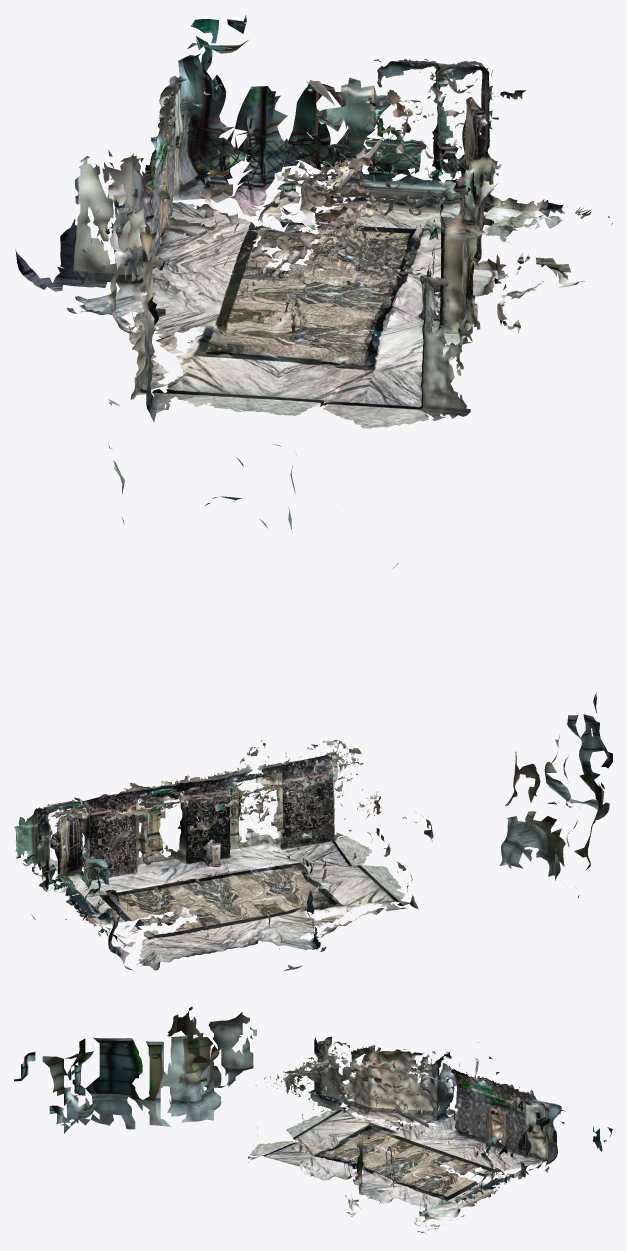
The model's file is 147293-TLT3Depanlift-tex.glb.
3 renders of one model, top to bottom at view 1: azimuth 30°, elevation 25°; view 2: azimuth 150°, elevation 25°; view 3: azimuth 270°, elevation 25°, orthographic. The views are drawn at different scales.
Parts seen in each view (by area): view 1: Node; view 2: Node; view 3: Node.
Part boxes in pixels (x1,y1,x2,y2): Node: (15, 15, 612, 568); Node: (14, 692, 612, 970); Node: (14, 1006, 612, 1233).
Bounding box in the file's own units: 13.08 × 4.75 × 19.19.
22 materials, 22 textured.
